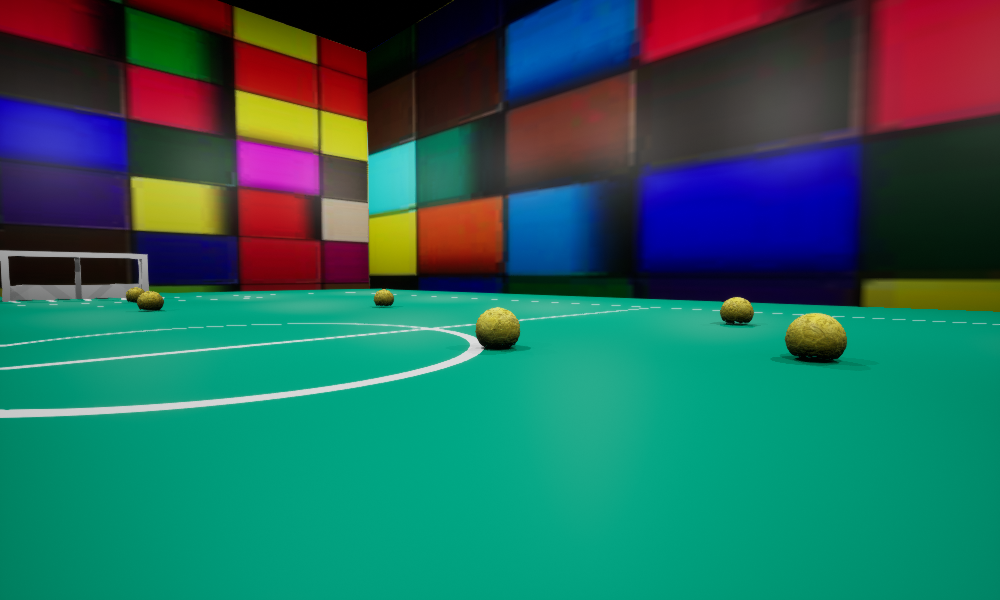b: (785, 313, 846, 361), (475, 307, 519, 348), (720, 297, 753, 324), (137, 291, 163, 309), (374, 289, 393, 305), (126, 287, 144, 301)
g: (0, 250, 148, 301)
